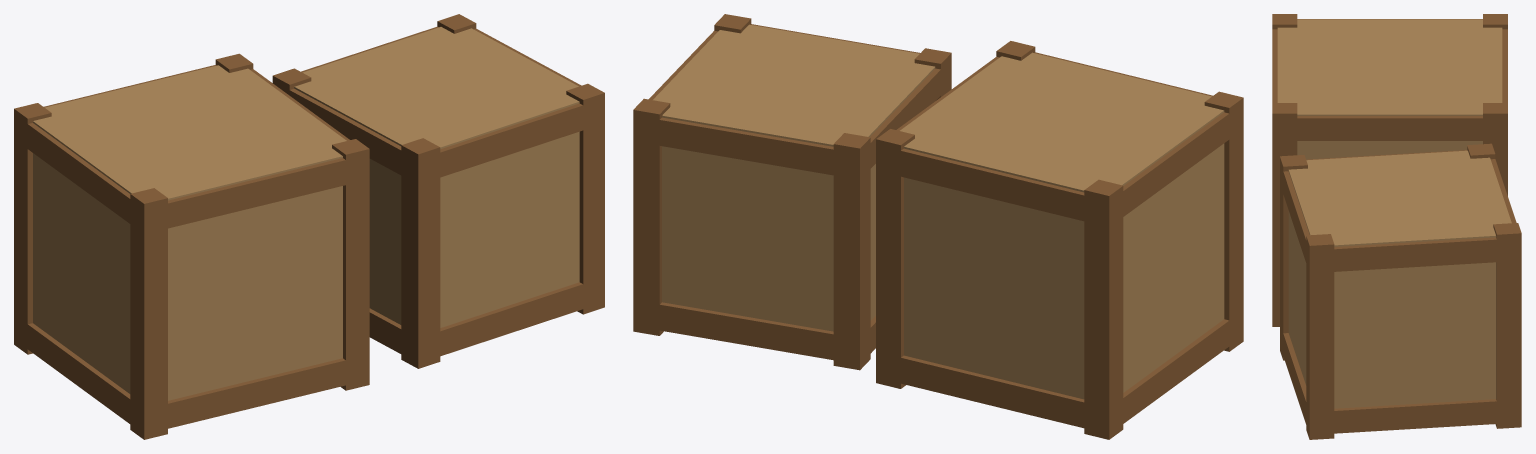
Rendered from pile_crates_1.glb.
3 views of the same model, side by side, from view 1: azimuth 30°, elevation 25°; view 2: azimuth 150°, elevation 25°; view 3: azimuth 270°, elevation 25° (orthographic). The views are drawn at different scales.
Visible parts, largest first — view 1: pile_crates_1; view 2: pile_crates_1; view 3: pile_crates_1.
Part boxes in pixels (x1,y1,x2,y2): pile_crates_1: (14,14,604,439); pile_crates_1: (633,14,1243,439); pile_crates_1: (1272,14,1521,439).
Size of the model in its own units: 1.41 by 0.66 by 0.6988.
